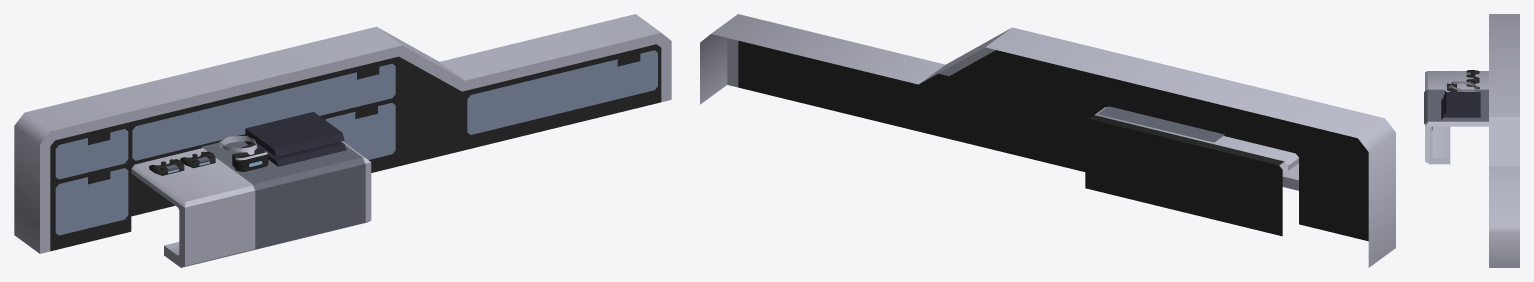
Rendered from interior_E_003.fbx.
The picture shows the model from 3 angles, left to right: view 1: azimuth 30°, elevation 25°; view 2: azimuth 150°, elevation 25°; view 3: azimuth 270°, elevation 25°; orthographic projection. The views are drawn at different scales.
Visible parts, largest first — view 1: interior_E_003; view 2: interior_E_003; view 3: interior_E_003.
Part boxes in pixels (box(x1,y1,x2,y2)): interior_E_003: box(14, 14, 671, 267); interior_E_003: box(700, 14, 1395, 267); interior_E_003: box(1424, 14, 1519, 267).
Size of the model in its own units: 454 by 82.43 by 99.45.
